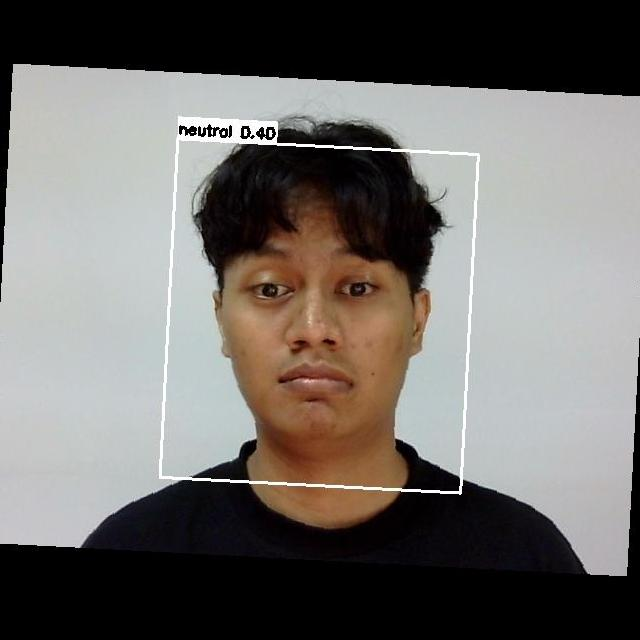Fear: (204, 224, 422, 417)
